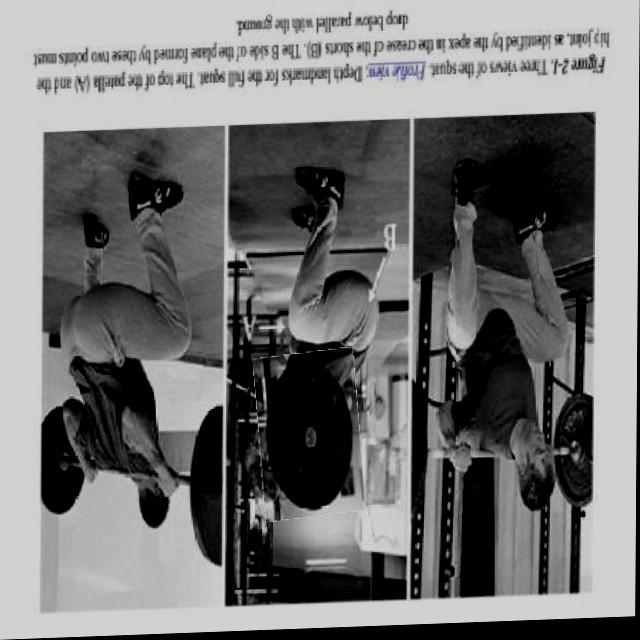barbell: (257, 353, 365, 523)
